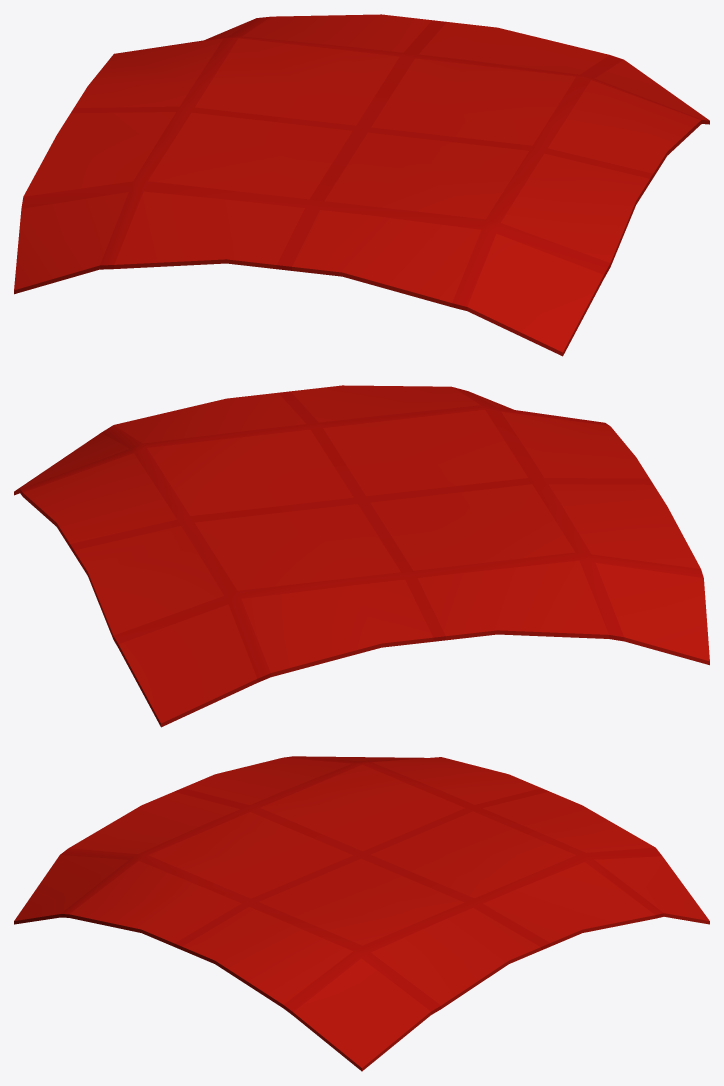
Rendered from Cloth.fbx.
The picture shows the model from 3 angles, top to bottom: view 1: azimuth 30°, elevation 25°; view 2: azimuth 150°, elevation 25°; view 3: azimuth 270°, elevation 25°; orthographic projection. The views are drawn at different scales.
Parts seen in each view (by area): view 1: Cloth; view 2: Cloth; view 3: Cloth.
Part boxes in pixels (x1,y1,x2,y2): Cloth: (14, 14, 709, 356); Cloth: (14, 385, 709, 727); Cloth: (14, 756, 709, 1071).
Bounding box in the file's own units: 264 × 29.1 × 264.
